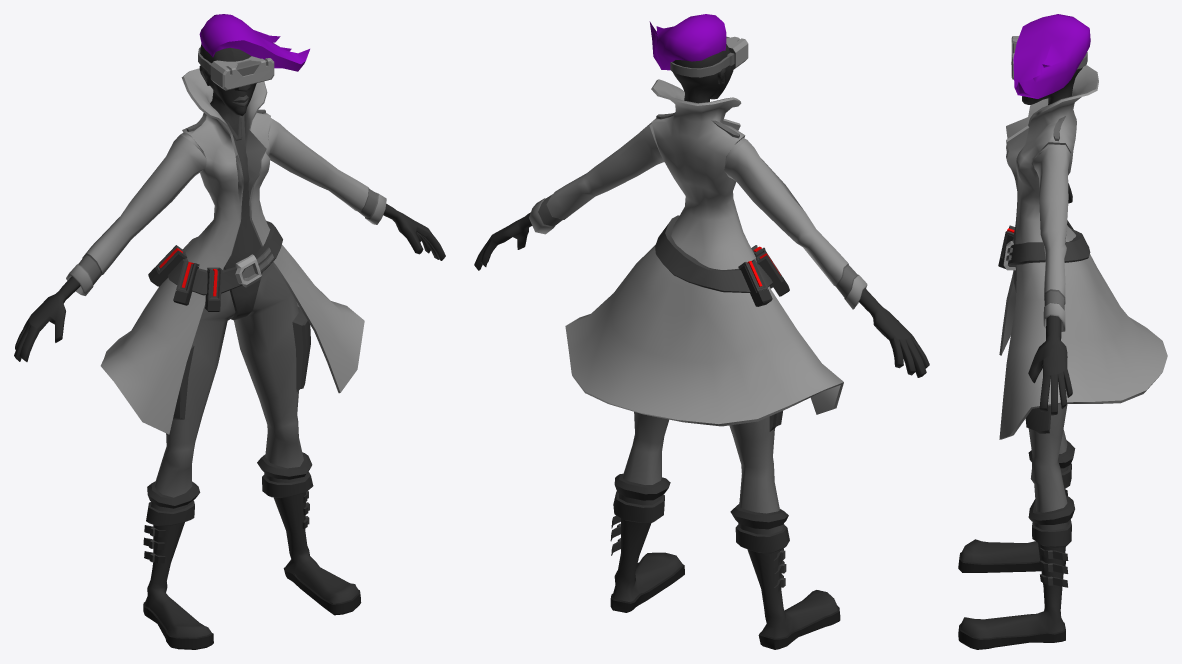
Rendered from chara_test.FBX.
3 views of the same model, side by side, from view 1: azimuth 30°, elevation 25°; view 2: azimuth 150°, elevation 25°; view 3: azimuth 270°, elevation 25° (orthographic). The views are drawn at different scales.
Parts seen in each view (by area): view 1: chara_body, chara_hair, chara_belt, chara_pouch_01 (×3), chara_visor; view 2: chara_body, chara_hair, chara_belt, chara_visor, chara_pouch_01; view 3: chara_body, chara_hair, chara_belt.
Part boxes in pixels (bbox=[...]): chara_body: bbox=[14, 43, 445, 649]; chara_hair: bbox=[199, 14, 309, 71]; chara_belt: bbox=[168, 220, 282, 295]; chara_pouch_01 (×3): bbox=[148, 245, 222, 311]; chara_visor: bbox=[198, 47, 274, 90]; chara_body: bbox=[474, 44, 929, 649]; chara_hair: bbox=[649, 14, 726, 70]; chara_belt: bbox=[655, 215, 772, 292]; chara_visor: bbox=[670, 36, 748, 77]; chara_pouch_01: bbox=[738, 259, 772, 306]; chara_body: bbox=[958, 65, 1167, 649]; chara_hair: bbox=[1013, 14, 1090, 98]; chara_belt: bbox=[1003, 228, 1090, 270].
Bounding box in the file's own units: 65.41 × 84.59 × 27.36.
